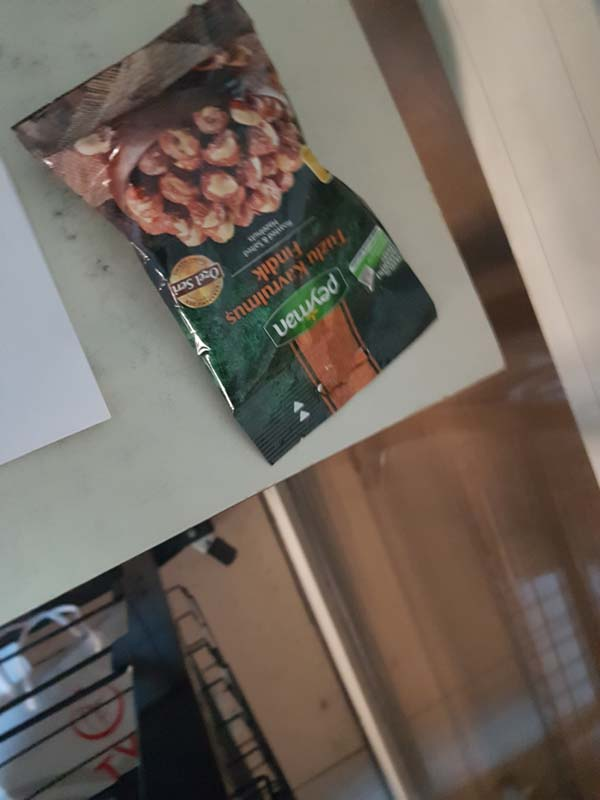peysankavrulmusfindik: (11, 1, 420, 453)
